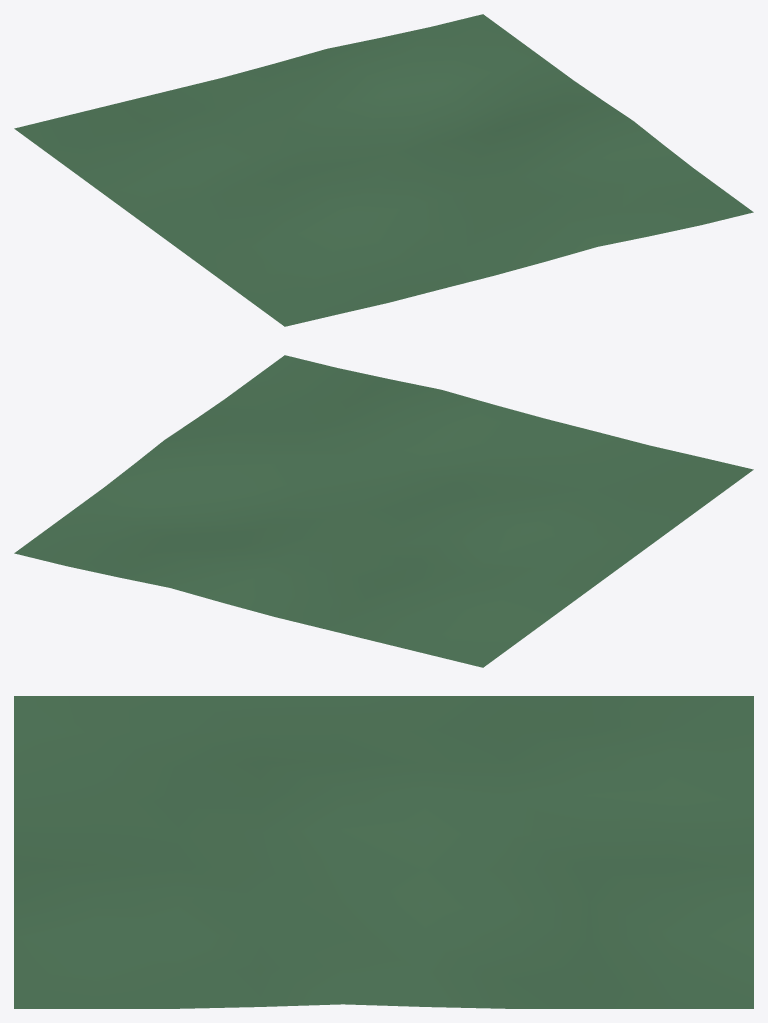
File: PaxGround.fbx
The picture shows the model from 3 angles, top to bottom: view 1: azimuth 30°, elevation 25°; view 2: azimuth 150°, elevation 25°; view 3: azimuth 270°, elevation 25°; orthographic projection. The views are drawn at different scales.
Visible parts, largest first — view 1: Ground; view 2: Ground; view 3: Ground.
Part boxes in pixels (x1,y1,x2,y2): Ground: (14, 14, 753, 326); Ground: (14, 355, 753, 667); Ground: (14, 696, 753, 1008).
Bounding box in the file's own units: 355 × 10.78 × 355.
